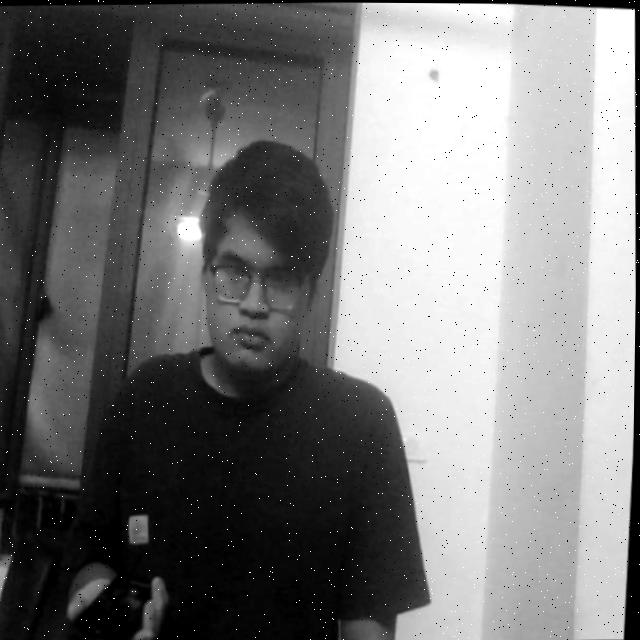phone: (59, 549, 168, 640)
